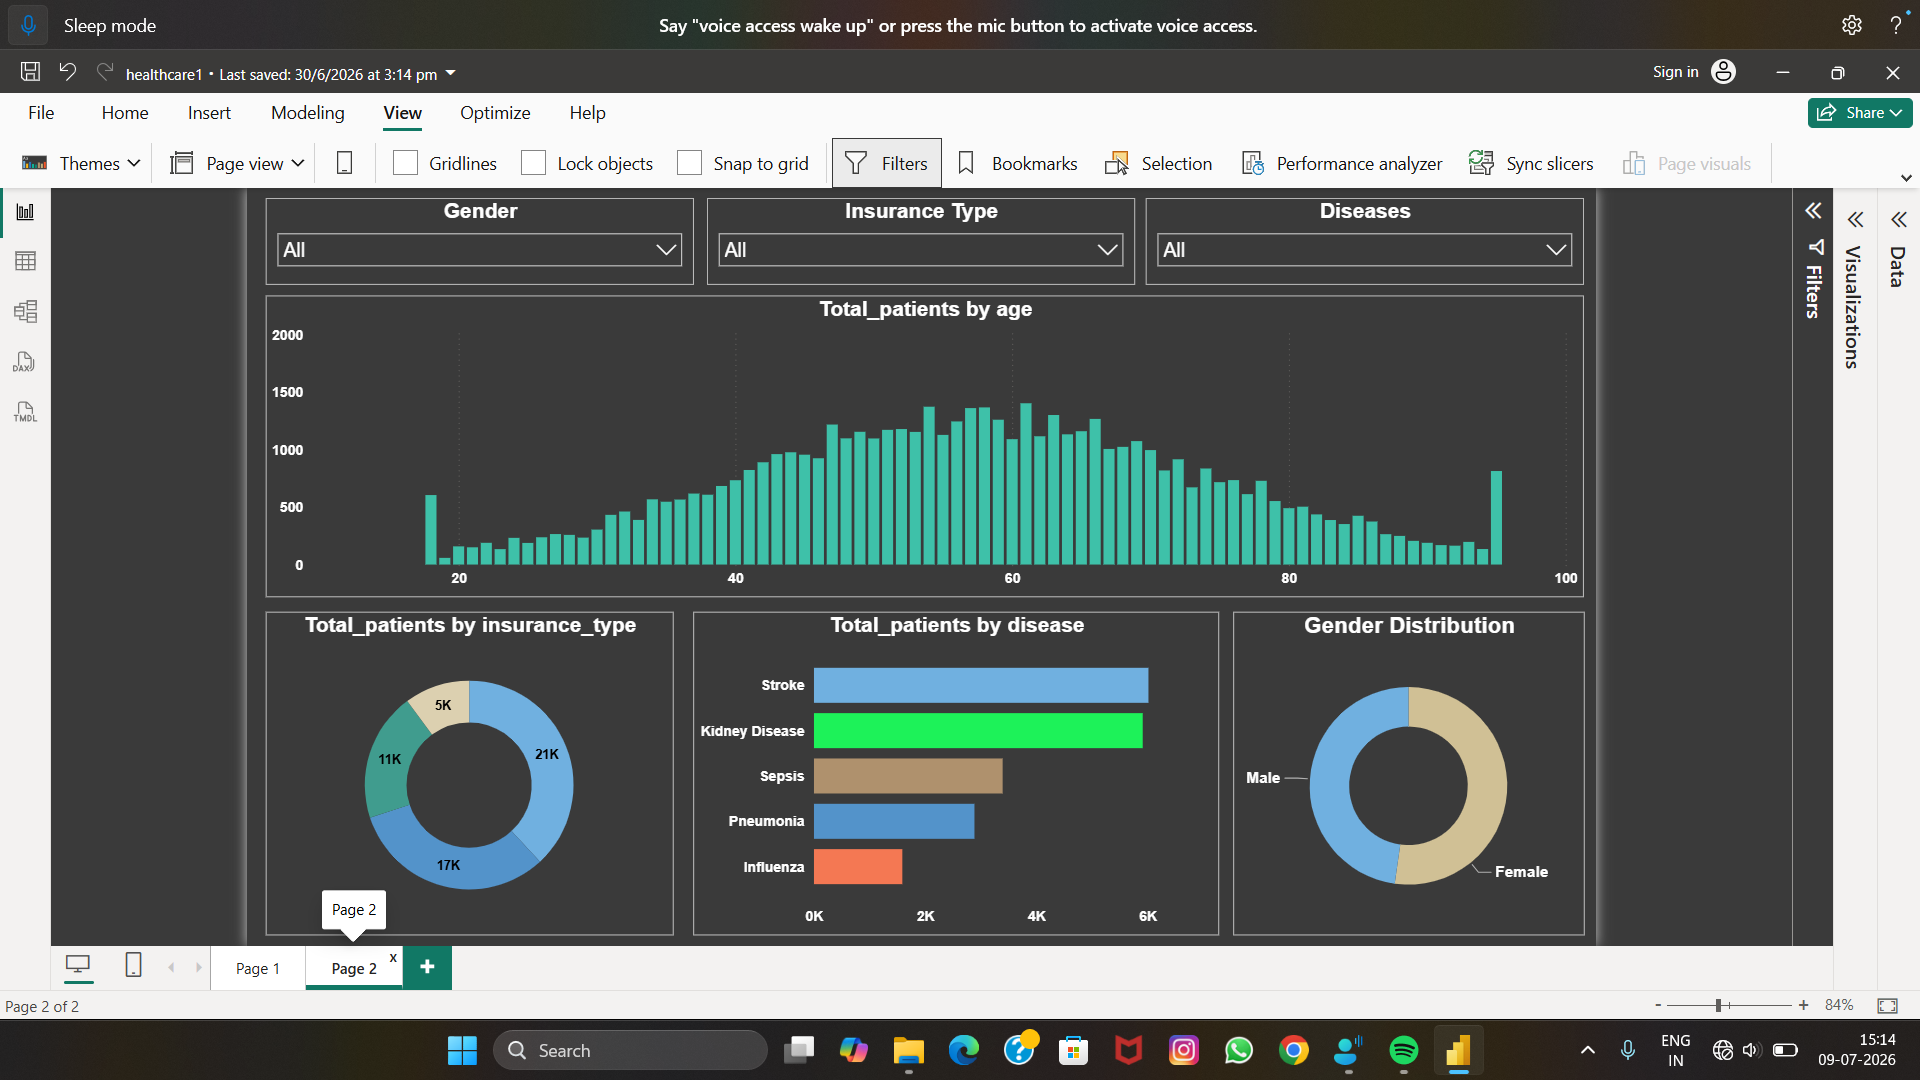

The page's visual inventory and layout, read from the dashboard file:
{"tool":"powerbi","page":{"name":"Page 2","canvas":[1280,720],"ordinal":1},"visuals":[{"type":"columnChart","fields":{"Y":["public hospital_management.Total_patients"],"Category":["public hospital_management.age"]},"box":[17.8,101.5,1251.5,286.8],"z":0},{"type":"donutChart","fields":{"Category":["public hospital_management.insurance_type"],"Y":["public hospital_management.Total_patients"]},"box":[17.8,402.1,387,307.4],"z":1000},{"type":"barChart","fields":{"Category":["public hospital_management.disease"],"Y":["public hospital_management.Total_patients"]},"box":[424,402.1,499.5,307.4],"z":2000},{"type":"donutChart","title":"Gender Distribution","fields":{"Category":["public hospital_management.gender"],"Y":["CountNonNull(public hospital_management.patient_id)"]},"box":[935.9,402.1,333.4,307.4],"z":3000},{"type":"slicer","title":"Gender","fields":{"Values":["public hospital_management.gender"]},"box":[17.8,9.6,406.2,82.3],"z":4000},{"type":"slicer","title":"Insurance Type","fields":{"Values":["public hospital_management.insurance_type"]},"box":[436.4,9.6,406.2,82.3],"z":5000},{"type":"slicer","title":"Diseases","fields":{"Values":["public hospital_management.disease"]},"box":[853.5,9.6,415.8,82.3],"z":6000}]}

Visuals, with their boxes on the page's 1280x720 design canvas (x1, y1, x2, y2). These are canvas units, not pixel positions in the 1920x1080 screenshot, which may show the page scaled, cropped or inside an application window:
columnChart - public hospital_management.Total_patients x public hospital_management.age: 18 102 1269 388
donutChart - public hospital_management.insurance_type x public hospital_management.Total_patients: 18 402 405 710
barChart - public hospital_management.disease x public hospital_management.Total_patients: 424 402 924 710
"Gender Distribution" donutChart: 936 402 1269 710
"Gender" slicer: 18 10 424 92
"Insurance Type" slicer: 436 10 843 92
"Diseases" slicer: 854 10 1269 92
